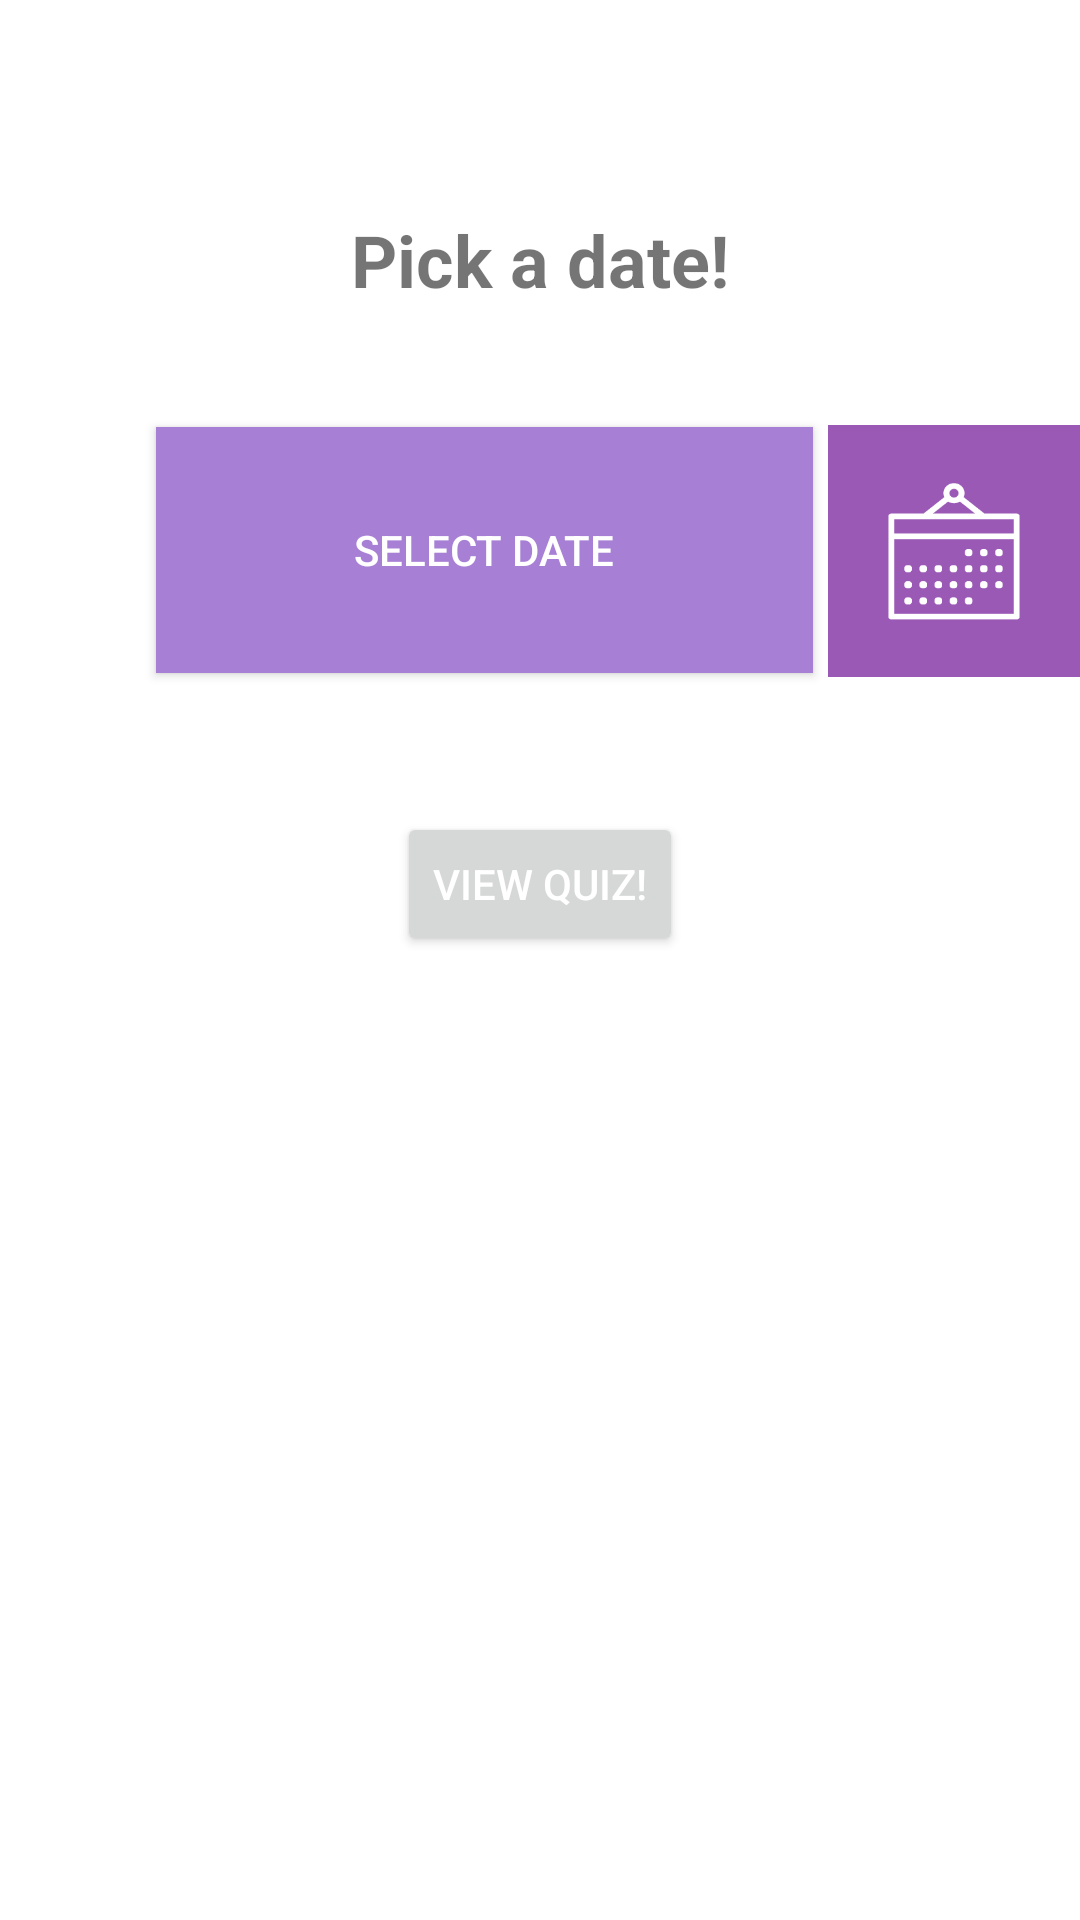

Point at icon controls on the screen. Image size 1080x1920, points as (x=x, y=y).
calendar: (x=954, y=551)
